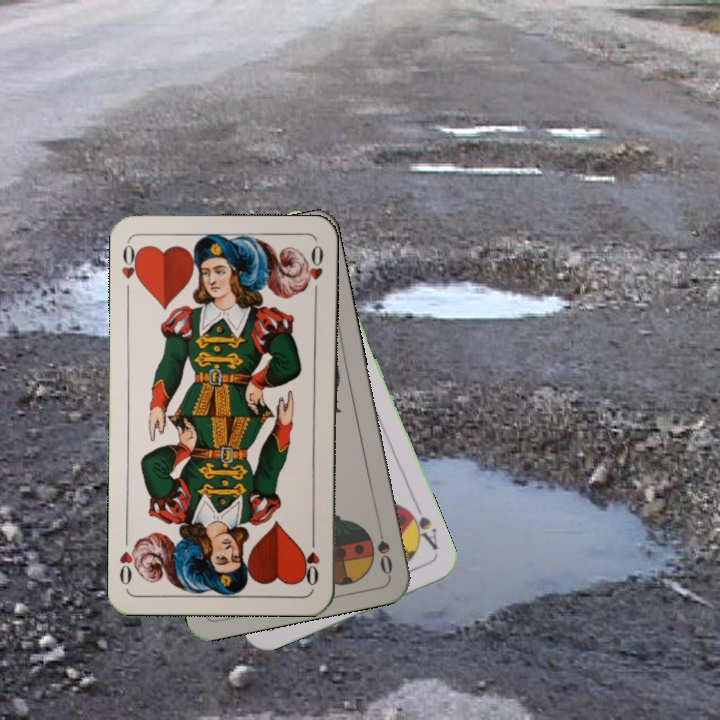HO: (117, 239, 143, 298), (301, 531, 323, 589)
SA: (402, 500, 441, 553)
SO: (373, 518, 395, 578)
